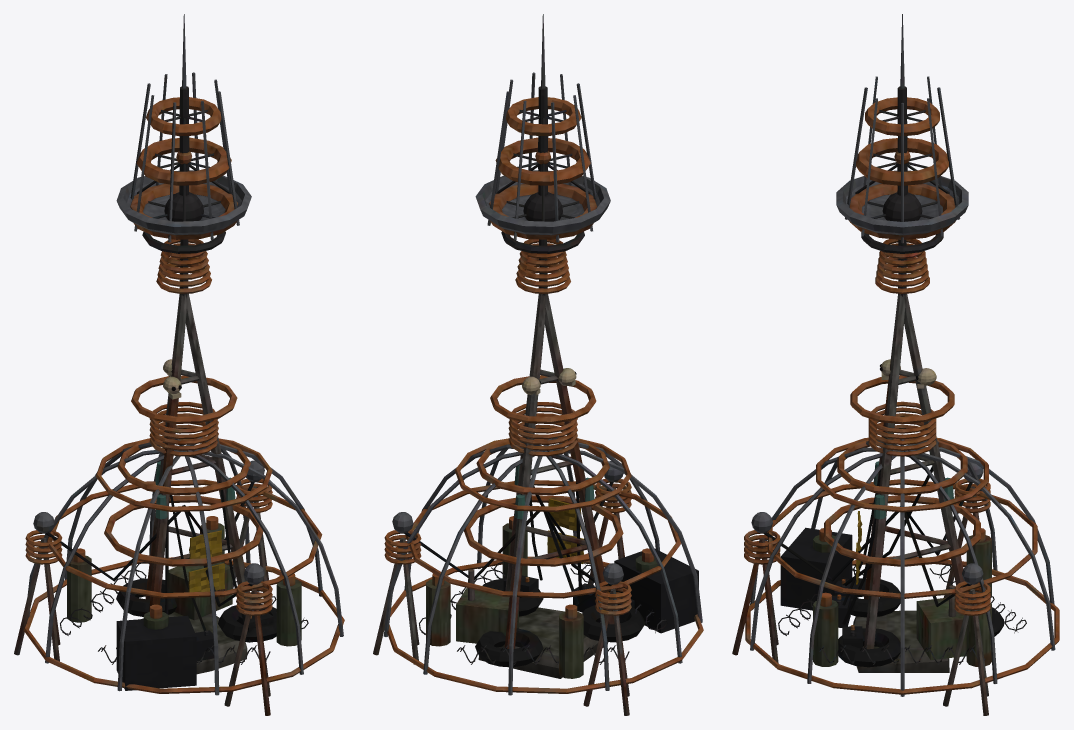
The model's file is tesla.glb.
3 renders of one model, left to right at view 1: azimuth 30°, elevation 25°; view 2: azimuth 150°, elevation 25°; view 3: azimuth 270°, elevation 25°, orthographic.
Visible parts, largest first — view 1: Lv5b, Lv1, Lv5a, Lv4b, Lv4a, Lv2, Lv3; view 2: Lv5b, Lv1, Lv5a, Lv4b, Lv4a, Lv2, Lv3; view 3: Lv5b, Lv1, Lv5a, Lv4b, Lv4a, Lv2, Lv3.
Boxes of the visible parts, x1,y1,x2,y2 form: Lv5b: [23, 436, 344, 695]; Lv1: [141, 192, 273, 674]; Lv5a: [14, 72, 272, 715]; Lv4b: [104, 151, 263, 592]; Lv4a: [130, 14, 238, 519]; Lv2: [116, 402, 276, 648]; Lv3: [60, 359, 308, 664]; Lv5b: [383, 436, 703, 695]; Lv1: [456, 192, 634, 678]; Lv5a: [373, 72, 631, 715]; Lv4b: [464, 151, 623, 566]; Lv4a: [489, 14, 597, 519]; Lv2: [475, 402, 645, 667]; Lv3: [419, 368, 667, 664]; Lv5b: [745, 434, 1059, 696]; Lv1: [832, 192, 967, 672]; Lv5a: [732, 76, 990, 715]; Lv4b: [824, 151, 980, 584]; Lv4a: [849, 14, 955, 519]; Lv2: [838, 401, 1003, 667]; Lv3: [778, 359, 1026, 664].
Size of the model in its own units: 3.56 by 7.81 by 3.62.
1 material, 1 textured.
